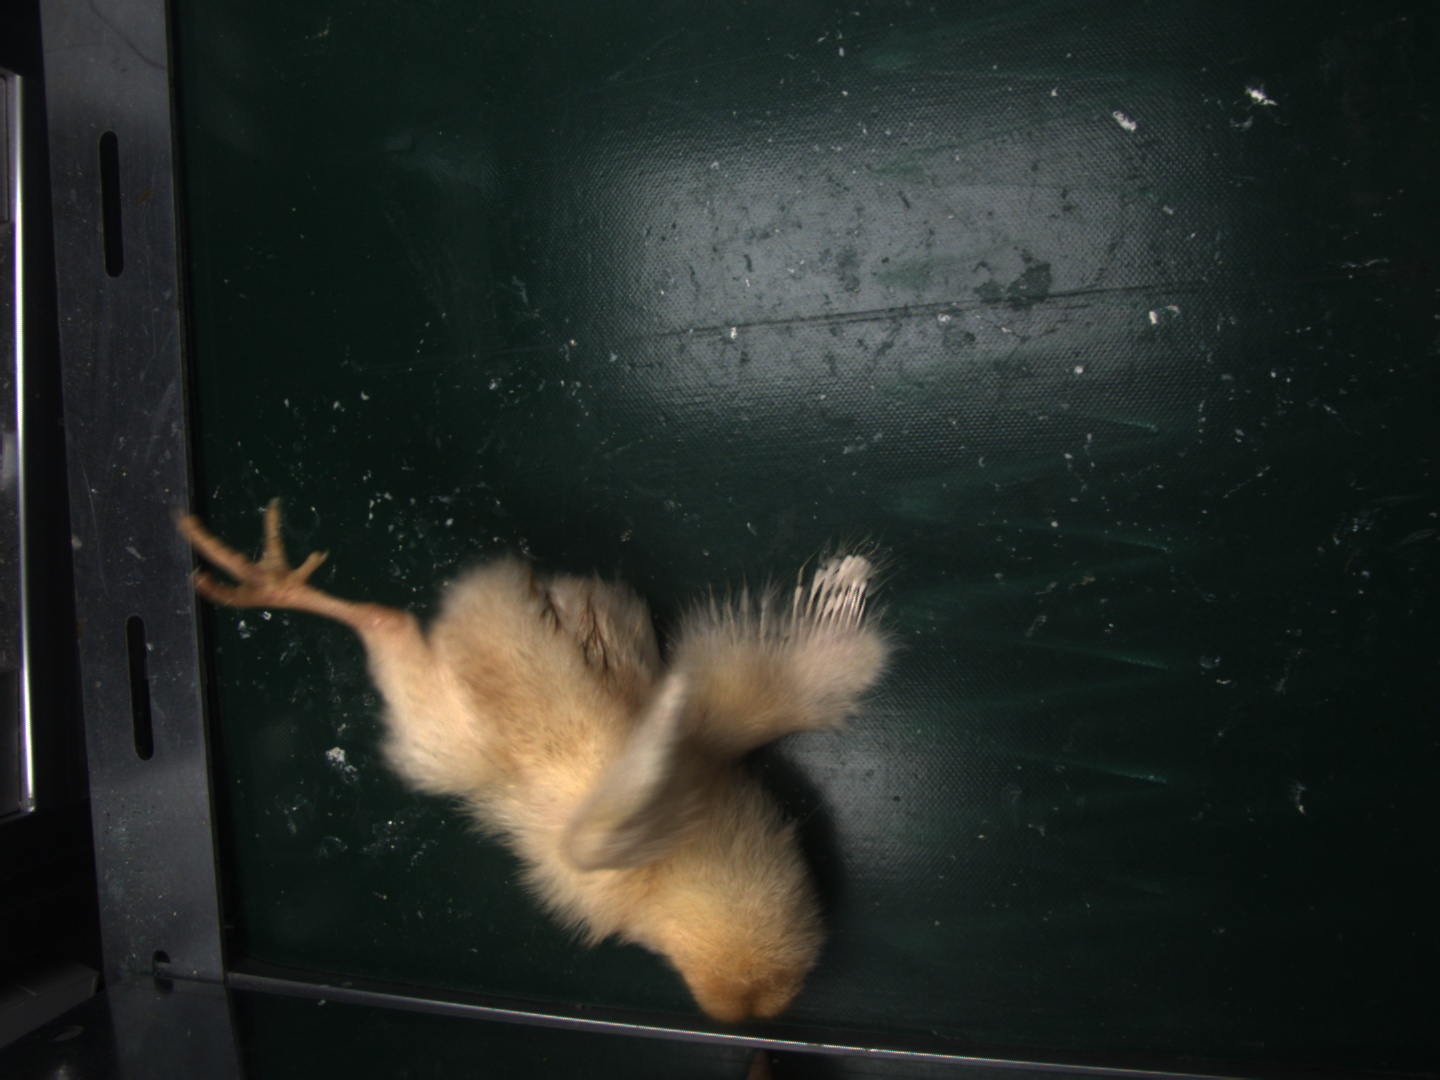female: (802, 551, 878, 631)
